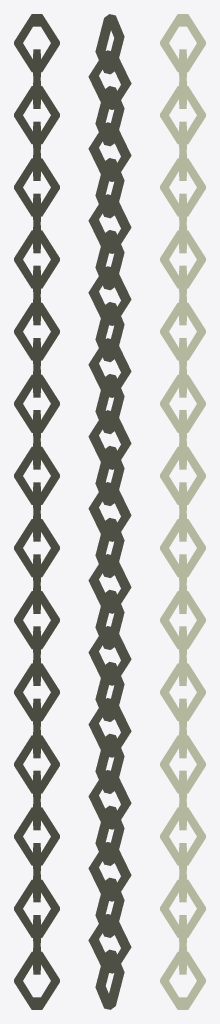
Rendered from chain.dae.
3 renders of one model, left to right at view 1: azimuth 90°, elevation 25°; view 2: azimuth 150°, elevation 25°; view 3: azimuth 270°, elevation 25°, orthographic.
Parts seen in each view (by area): view 1: cylinder1-0; view 2: cylinder1-0; view 3: cylinder1-0.
Boxes of the visible parts, x1,y1,x2,y2 form: cylinder1-0: (14, 14, 59, 1009); cylinder1-0: (88, 14, 131, 1009); cylinder1-0: (160, 14, 205, 1009).
Bounding box in the file's own units: 0.6833 × 16.37 × 0.6833.
